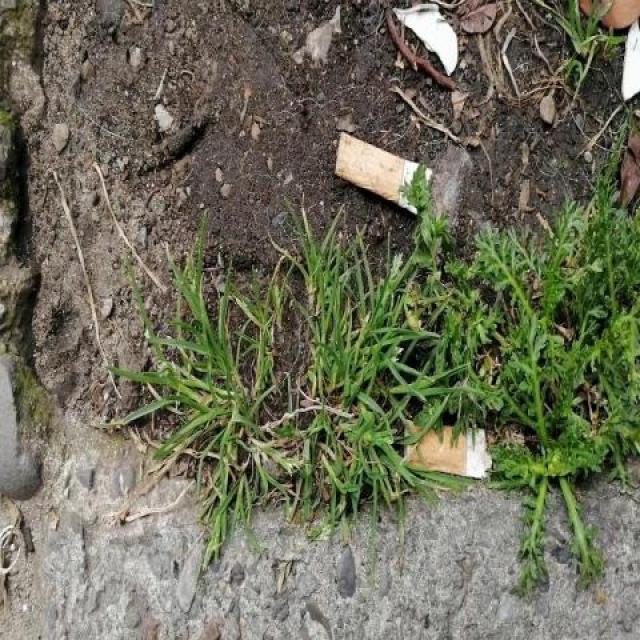non-organic waste: (332, 126, 436, 219), (398, 413, 498, 488)
